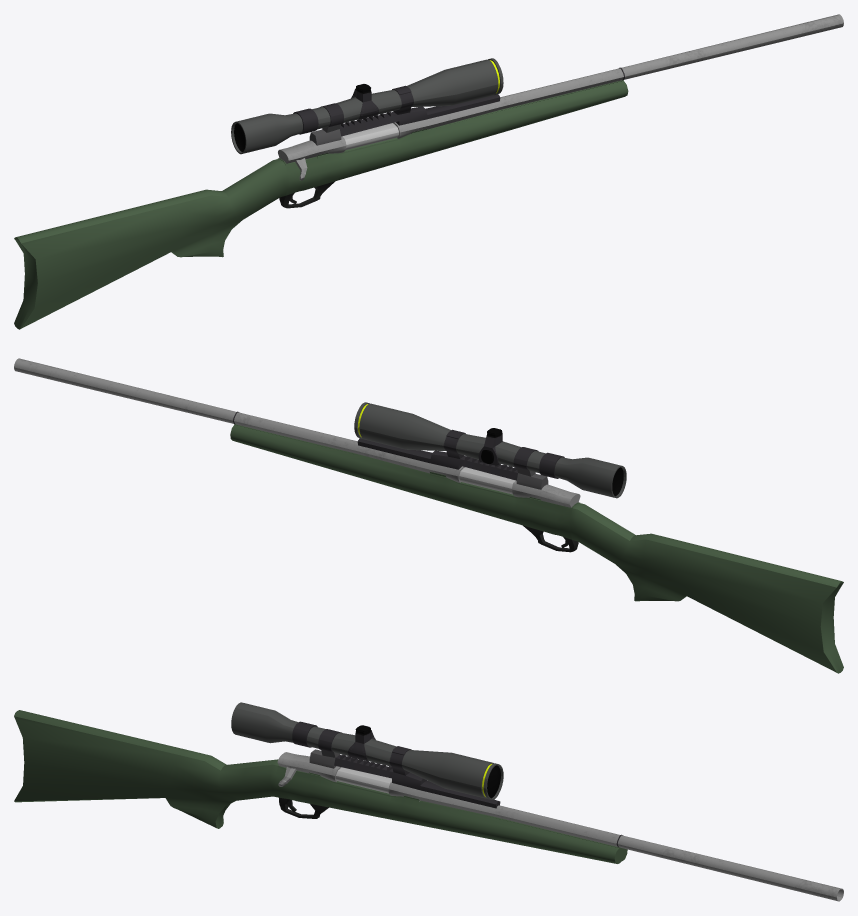
File: Rifle model.fbx
3 renders of one model, top to bottom at view 1: azimuth 30°, elevation 25°; view 2: azimuth 150°, elevation 25°; view 3: azimuth 330°, elevation 25°, orthographic.
Parts seen in each view (by area): view 1: Plane002; view 2: Plane002; view 3: Plane002.
Part boxes in pixels (bbox=[...]): Plane002: bbox=[14, 14, 843, 329]; Plane002: bbox=[14, 358, 843, 673]; Plane002: bbox=[14, 702, 843, 901].
Size of the model in its own units: 43.34 by 7.94 by 1.85.
Materials: 1 (1 with a texture image).
